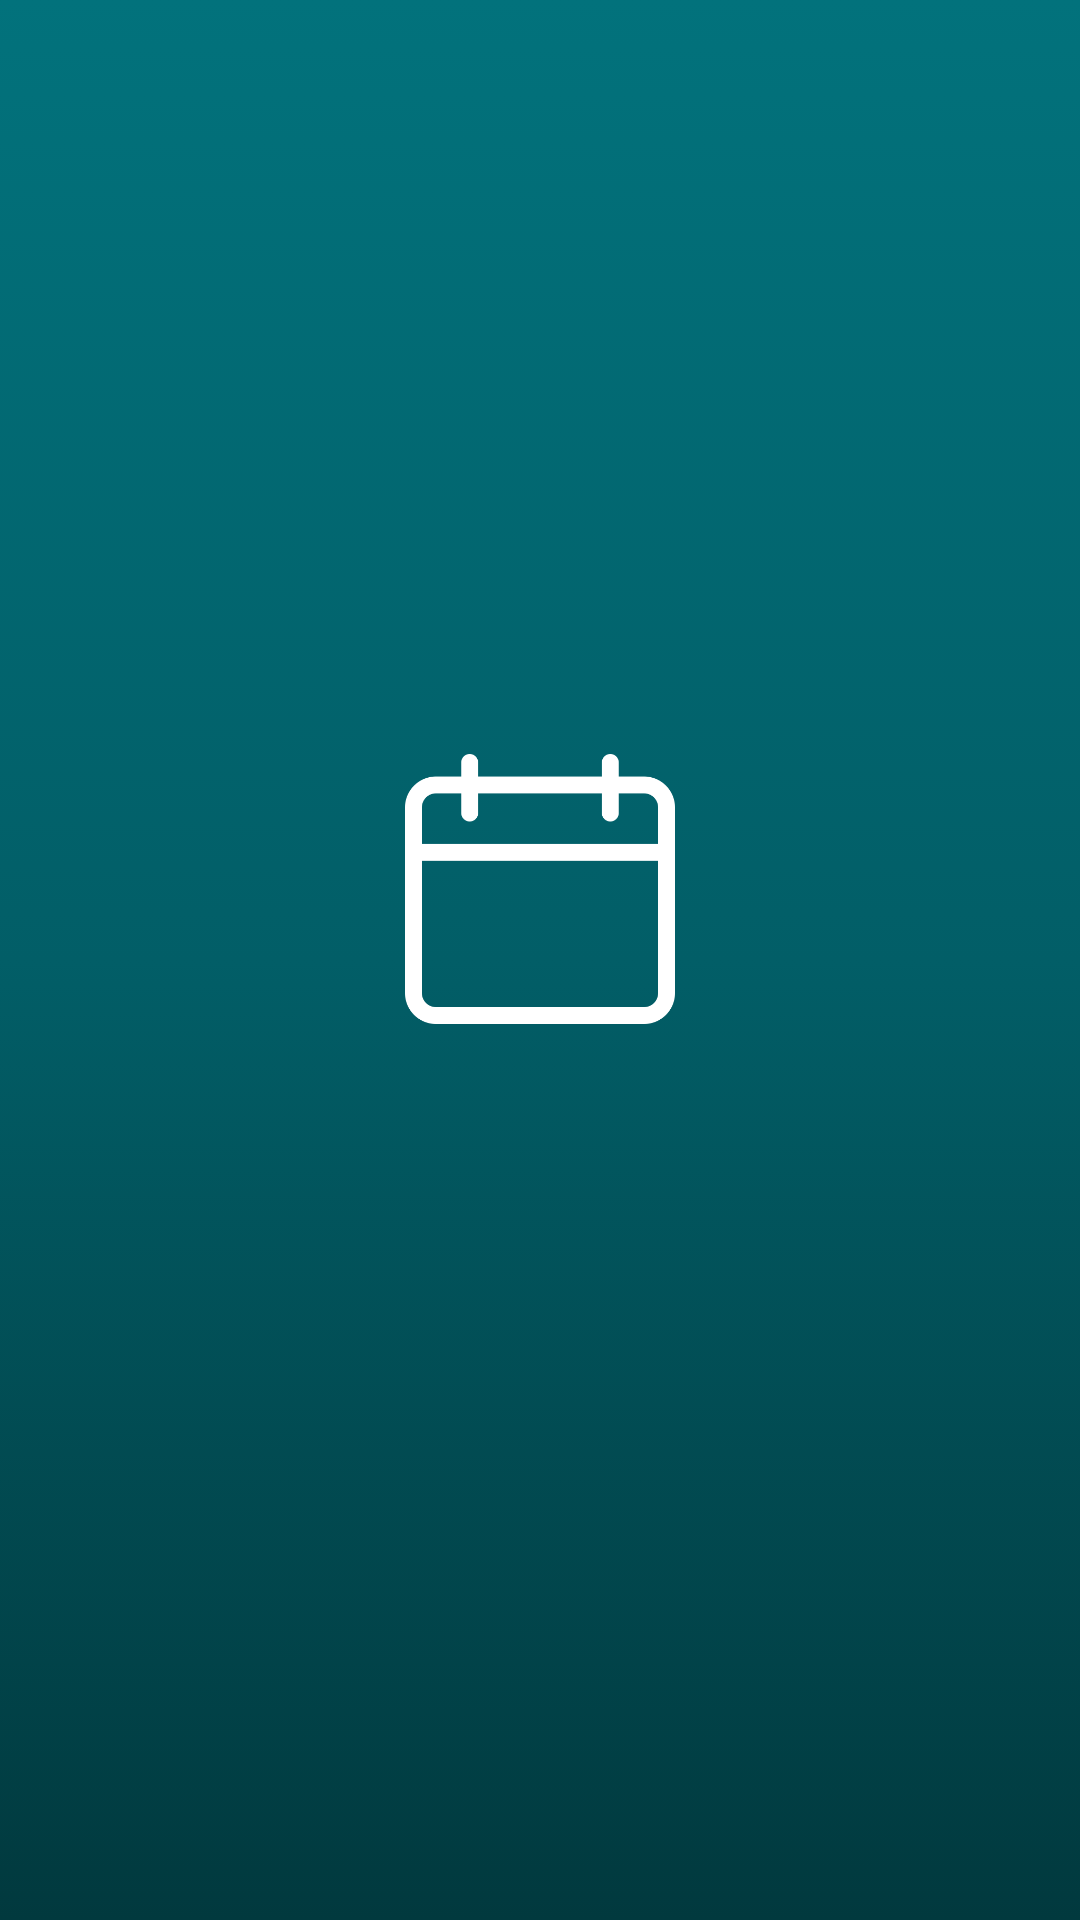

Icons on this 1080w x 1920h Android screen, each with its box as (x1, y1, x2, y2):
pixelperfect calendar: (405, 754, 675, 1024)
